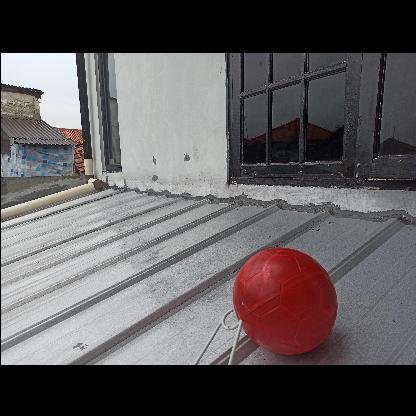red_ball: (228, 245, 338, 355)
